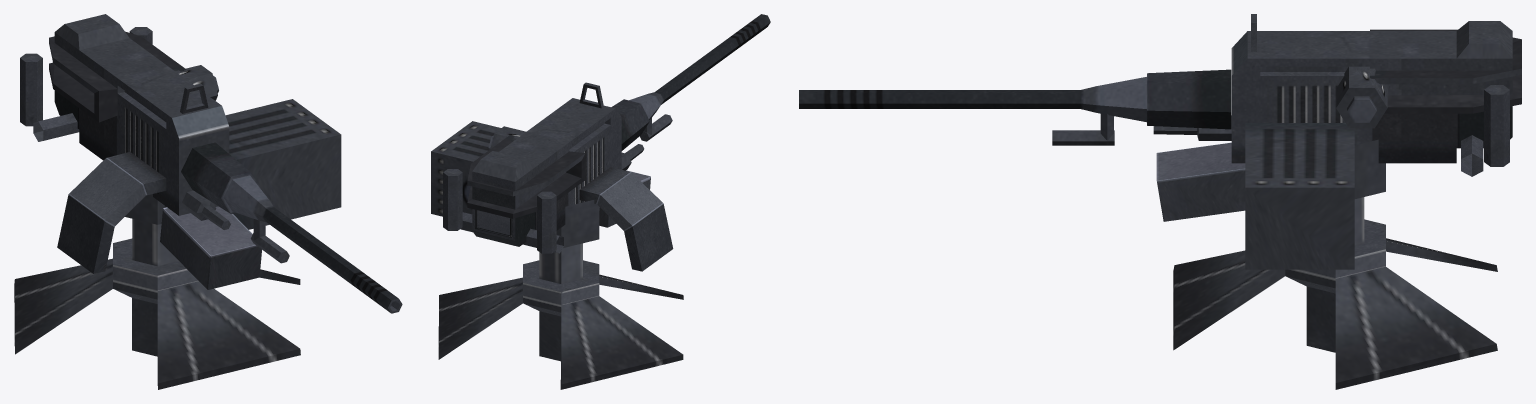
Rendered from TankAirGun.FBX.
3 views of the same model, side by side, from view 1: azimuth 30°, elevation 25°; view 2: azimuth 150°, elevation 25°; view 3: azimuth 270°, elevation 25° (orthographic). The views are drawn at different scales.
Parts seen in each view (by area): view 1: Object01, Object21; view 2: Object01, Object21; view 3: Object21, Object01.
Part boxes in pixels (x1,y1,x2,y2): Object01: (14, 99, 341, 389); Object21: (20, 14, 402, 313); Object01: (431, 121, 683, 389); Object21: (443, 14, 770, 253); Object21: (799, 14, 1521, 176); Object01: (1156, 123, 1497, 389).
Size of the model in its own units: 98.49 by 191 by 93.36.
